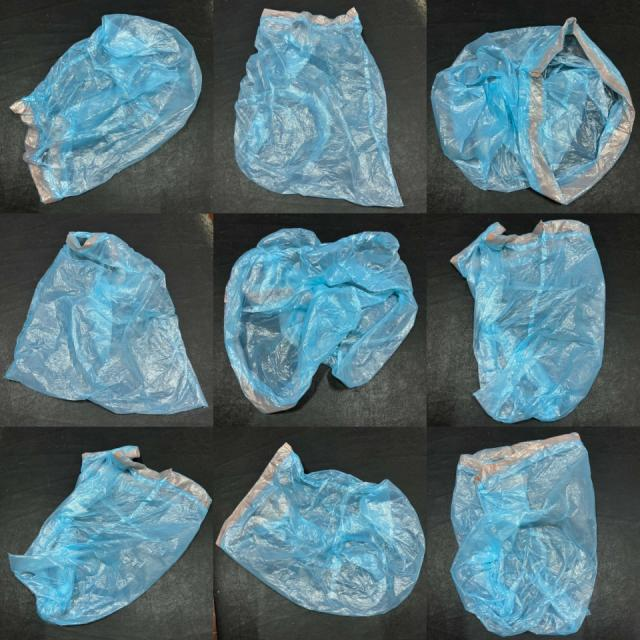Single-layer Plastic: (431, 18, 635, 203), (5, 231, 208, 414), (9, 446, 211, 625), (11, 14, 201, 203), (216, 445, 425, 616), (224, 229, 418, 413), (234, 8, 402, 207), (451, 221, 605, 422), (451, 432, 598, 636)
